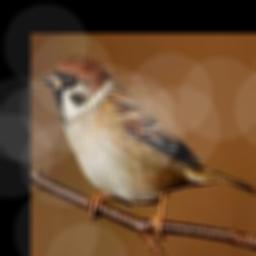Sparrow: (42, 55, 256, 239)
